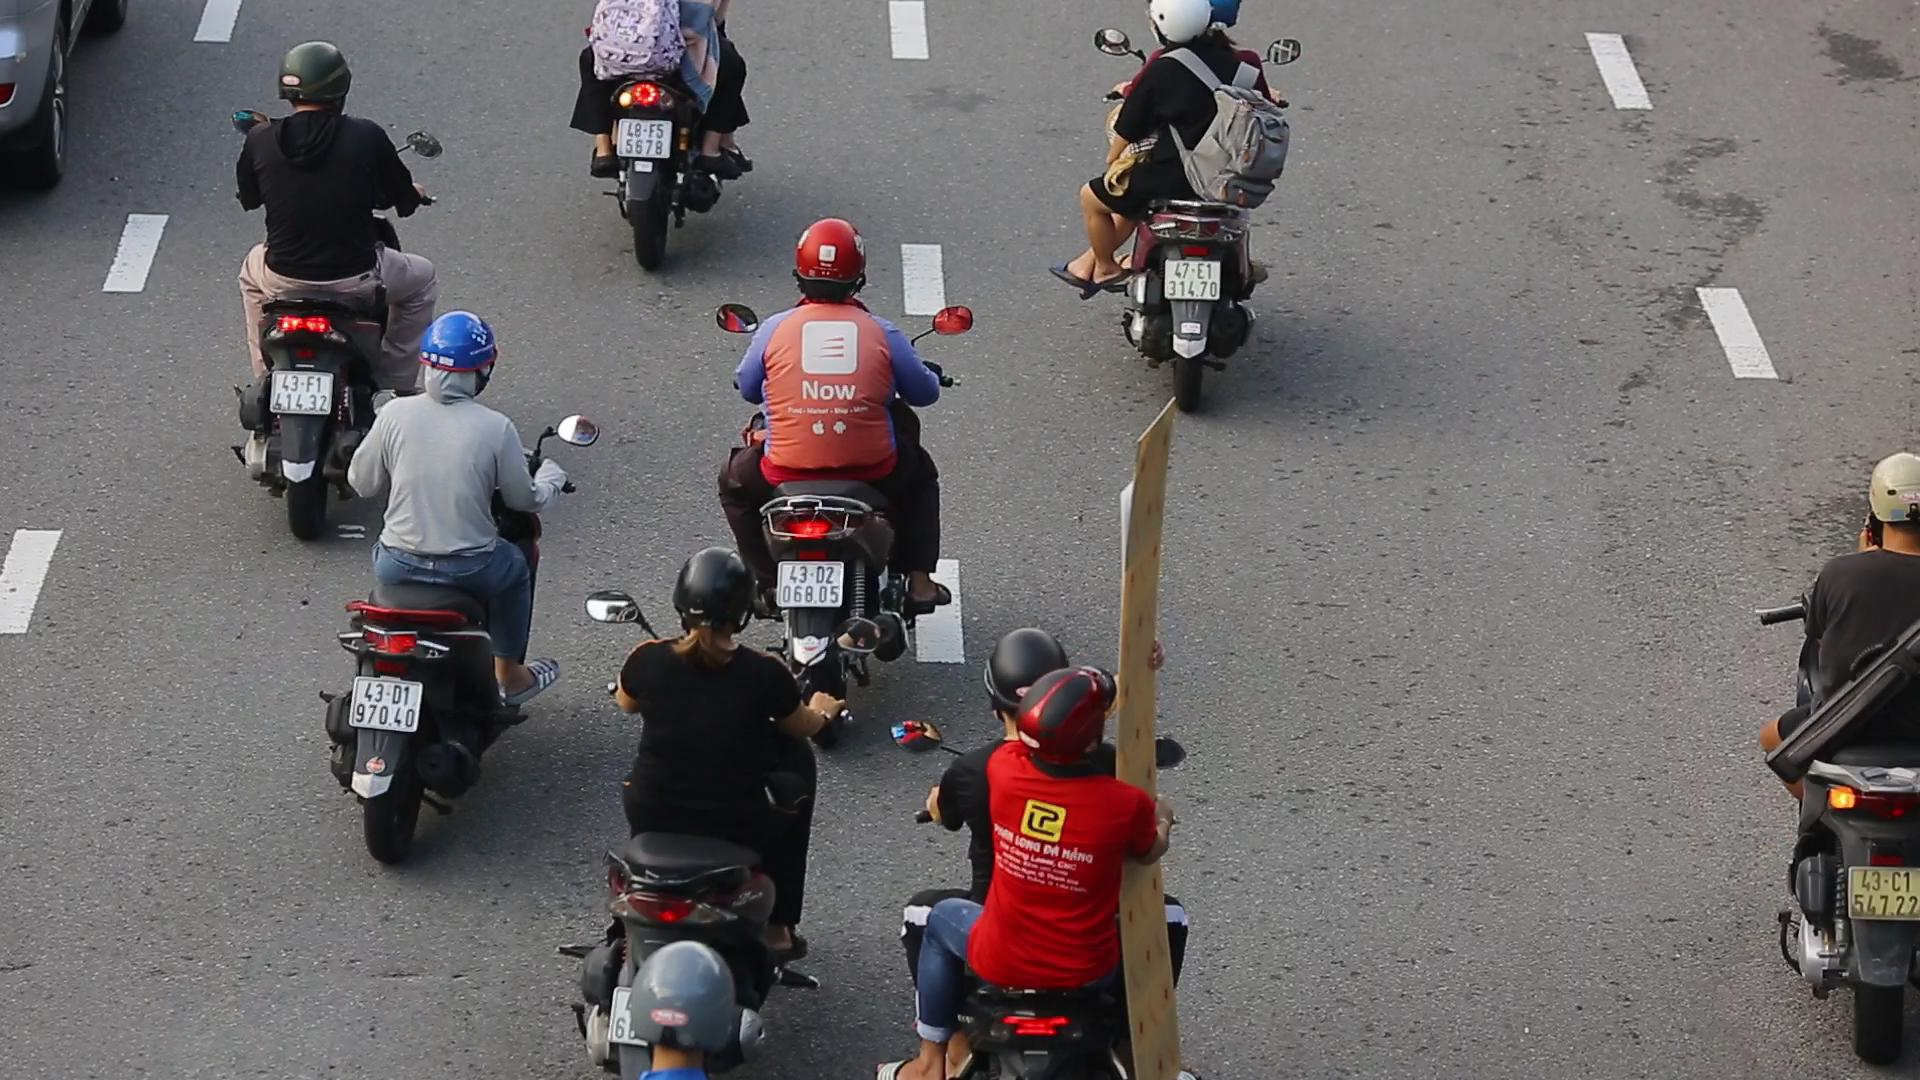motobike: (348, 316, 575, 853), (721, 216, 975, 695), (227, 38, 406, 521)
